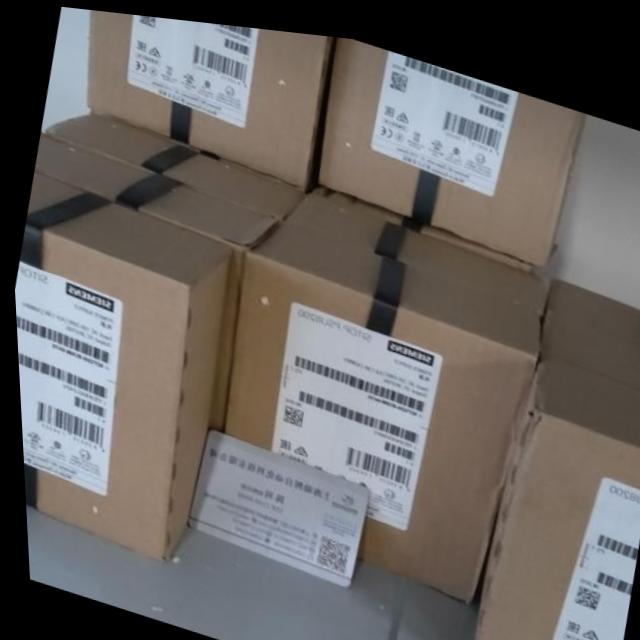box: (220, 213, 535, 592), (12, 172, 231, 560), (33, 132, 279, 426), (315, 29, 586, 255), (466, 343, 640, 640), (86, 8, 332, 184), (278, 185, 547, 304), (40, 109, 304, 214), (306, 177, 536, 257), (536, 266, 640, 376)
